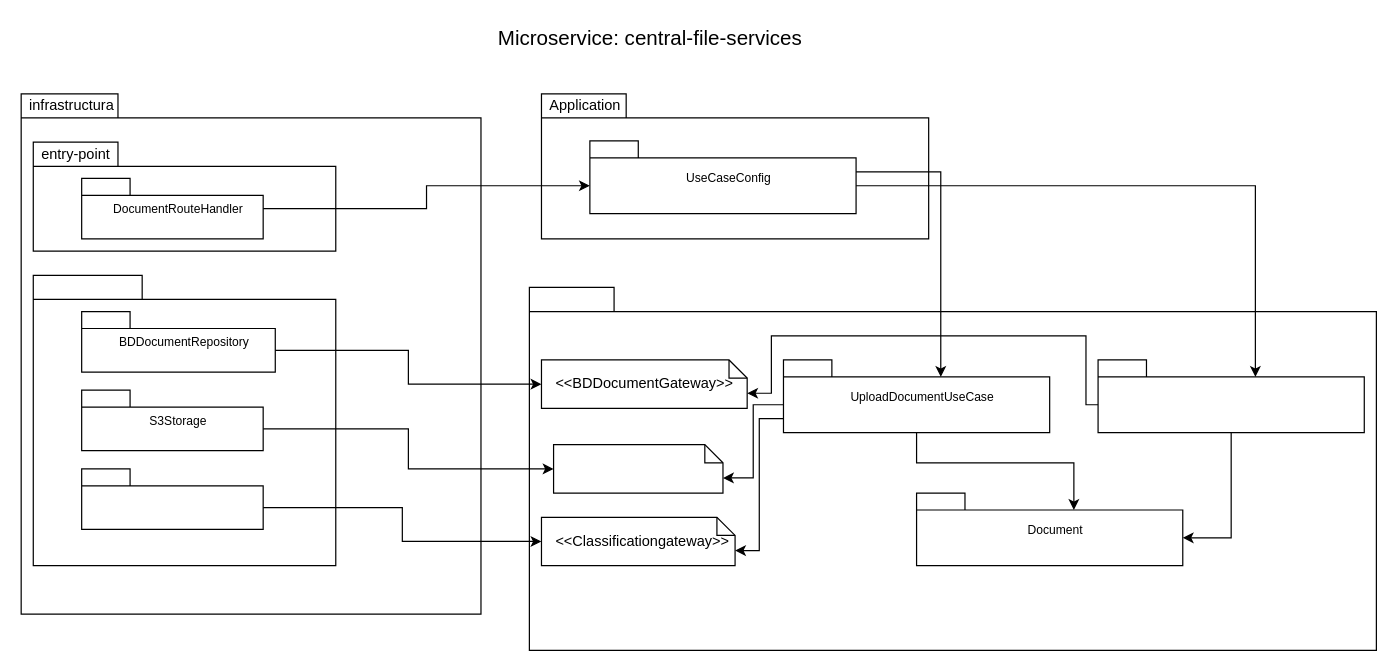
This 1398x672 diagram has some shape labels left out. The box of each missing label's shape, as (x1, y1, x2, y2) in pixels:
<<StorageGateway>>: (552, 443, 723, 493)
ArchiveDocumentUseCase: (1097, 359, 1364, 433)
Domain: (528, 286, 1376, 650)
driven-adapter: (32, 274, 336, 566)
LambdaClasificationSQS: (80, 468, 263, 529)
